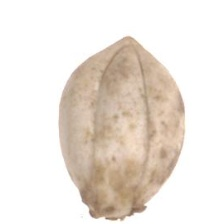L1: (80, 198, 148, 221), (101, 35, 156, 60)
L2: (58, 35, 186, 221)
